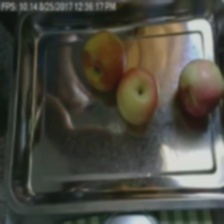apple: (43, 31, 186, 182)
